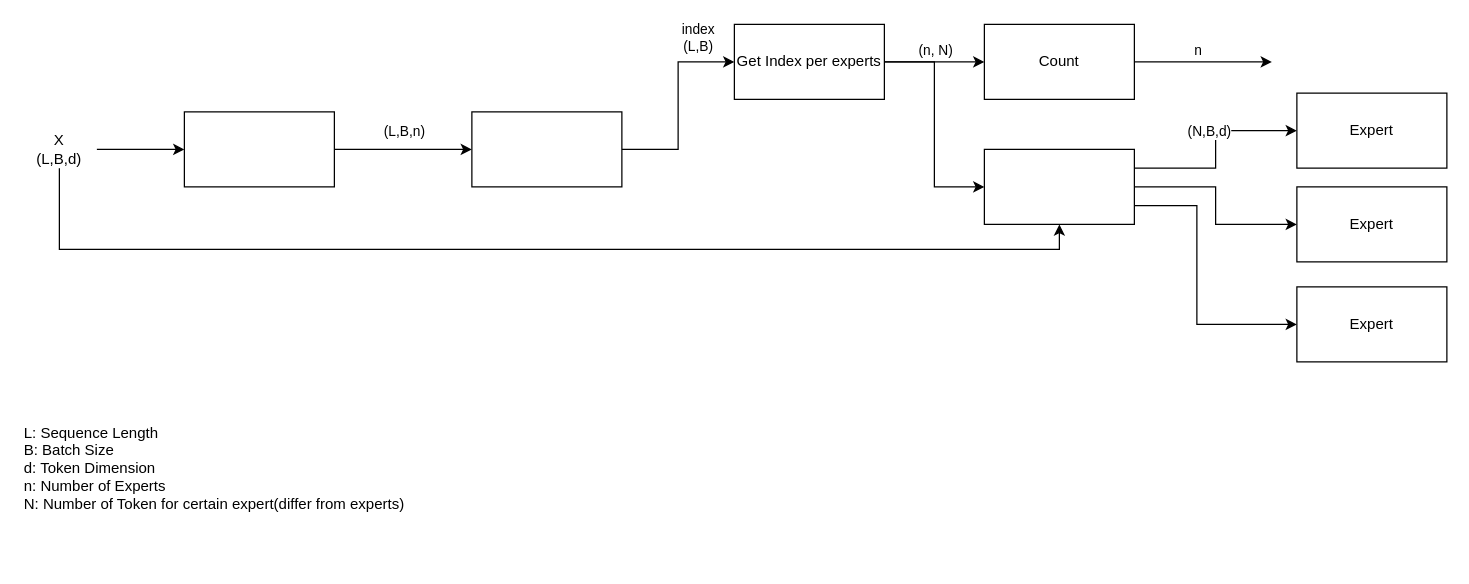
Image size: 1469x584. Some labels were removed from this diagram. The shapes that lost their labels are listed below. From the top down, each one's centre as x and y in pixels, then its label:
At (258,149): "Softmax(Linear) d -> n".
At (546,149): "Max".
At (1058,186): "Select X".
